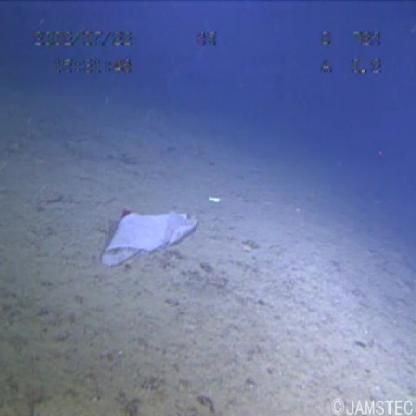Rác: (81, 201, 200, 276)
